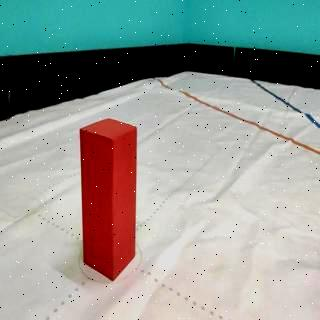redbox: (80, 118, 137, 284)
